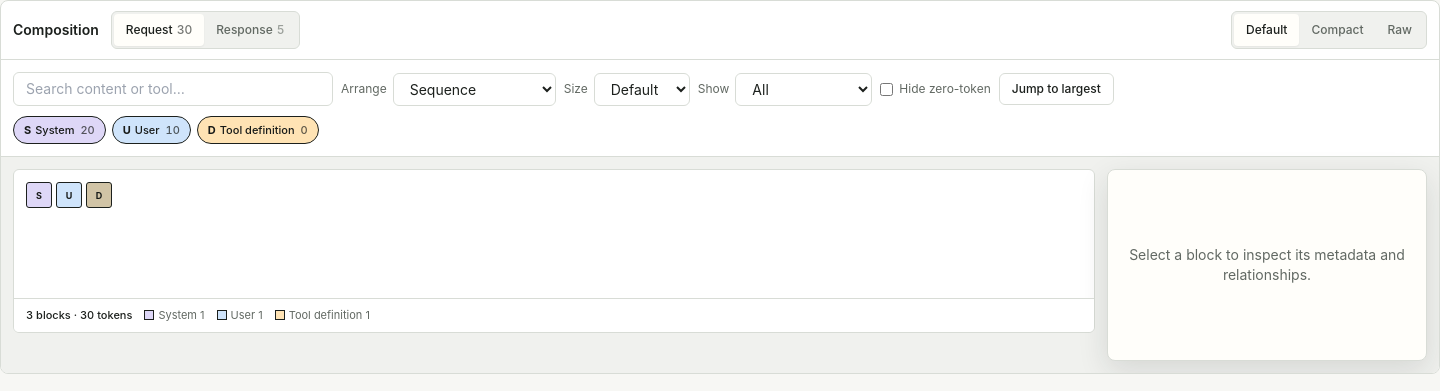
Test: RequestWorkbench › Show control › is disabled on the Response tab
Expected: the button "U" is shown, [56, 182, 82, 208]
Click the button "Response5" at coordinates (250, 30), box [204, 14, 296, 46]
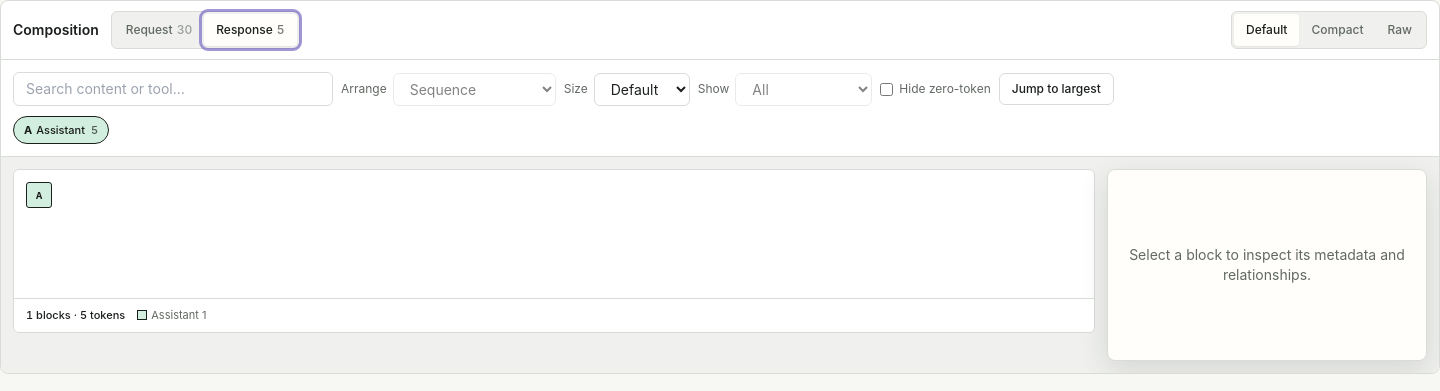
Now the dropdown labelled "Show" is disabled, box [735, 72, 872, 106]
